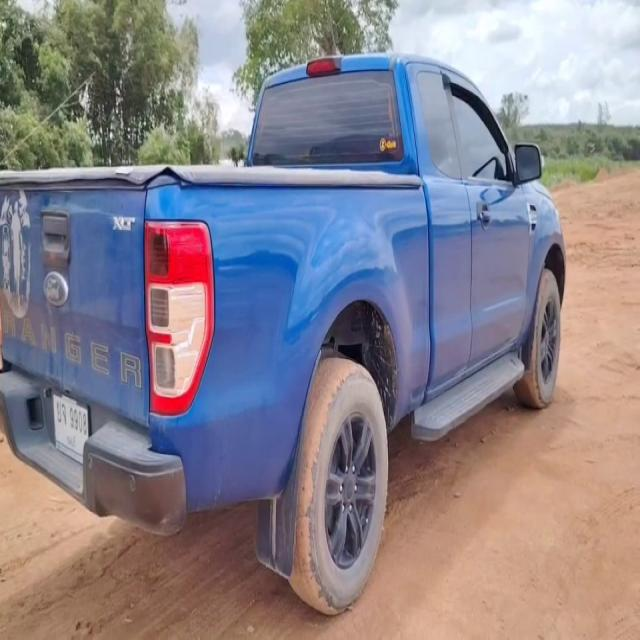Digit: (70, 406, 88, 435)
Licenseplate: (52, 393, 90, 471)
Provincename: (64, 432, 78, 450)
Thaichar: (57, 399, 67, 424)
